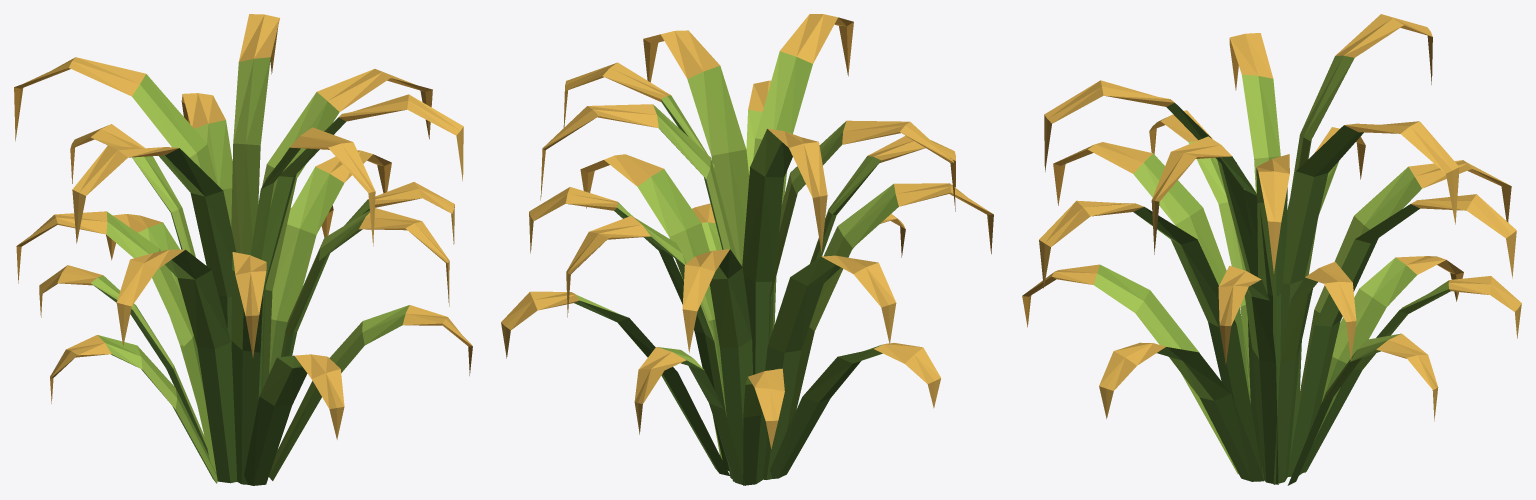
File: FMS_Grass_Tall.fbx
3 views of the same model, side by side, from view 1: azimuth 30°, elevation 25°; view 2: azimuth 150°, elevation 25°; view 3: azimuth 270°, elevation 25° (orthographic).
Visible parts, largest first — view 1: FMS_Grass_Tall; view 2: FMS_Grass_Tall; view 3: FMS_Grass_Tall.
Part boxes in pixels (x1=…): FMS_Grass_Tall: x1=14, y1=14, x2=472, y2=485; FMS_Grass_Tall: x1=501, y1=14, x2=993, y2=485; FMS_Grass_Tall: x1=1022, y1=14, x2=1521, y2=485.
Bounding box in the file's own units: 0.9083 × 0.9 × 1.02.
